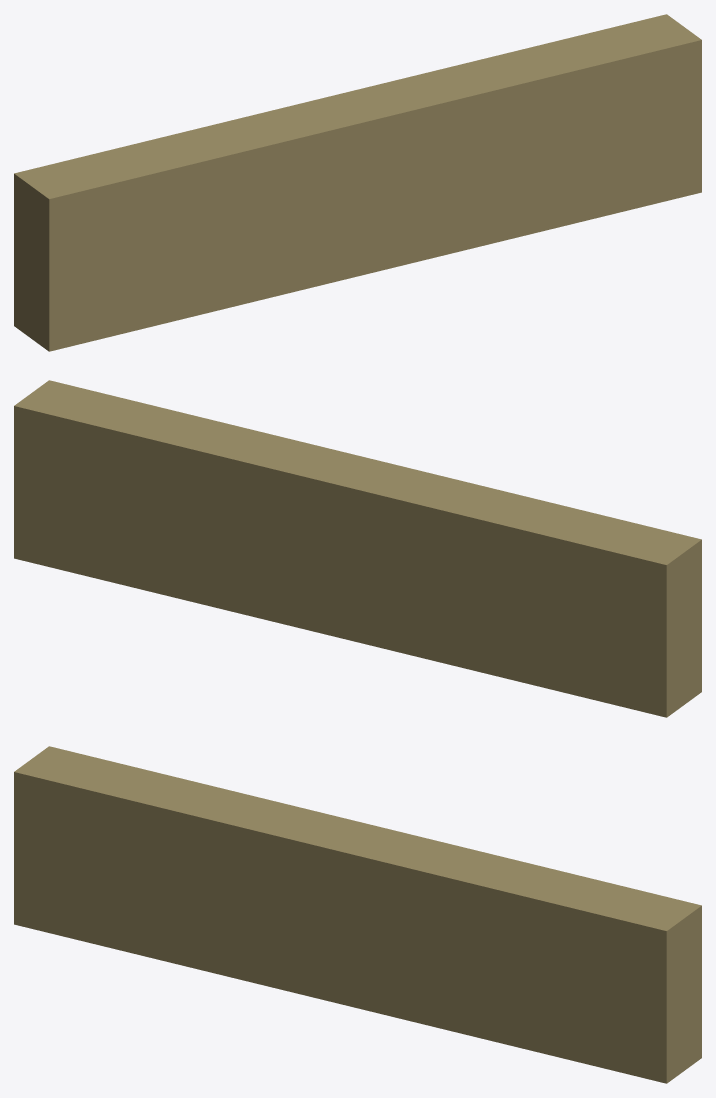
Rendered from sandbag_wall_lod1.glb.
3 views of the same model, one above another, from view 1: azimuth 30°, elevation 25°; view 2: azimuth 150°, elevation 25°; view 3: azimuth 330°, elevation 25° (orthographic).
Visible parts, largest first — view 1: sandbag_wall_lod1; view 2: sandbag_wall_lod1; view 3: sandbag_wall_lod1.
Part boxes in pixels (box(x1,y1,x2,y2)): sandbag_wall_lod1: box(14, 14, 701, 351); sandbag_wall_lod1: box(14, 380, 701, 717); sandbag_wall_lod1: box(14, 746, 701, 1083).
Size of what is drawn, in the model's own units: 6 by 1.34 by 0.56.
1 material, 1 textured.
